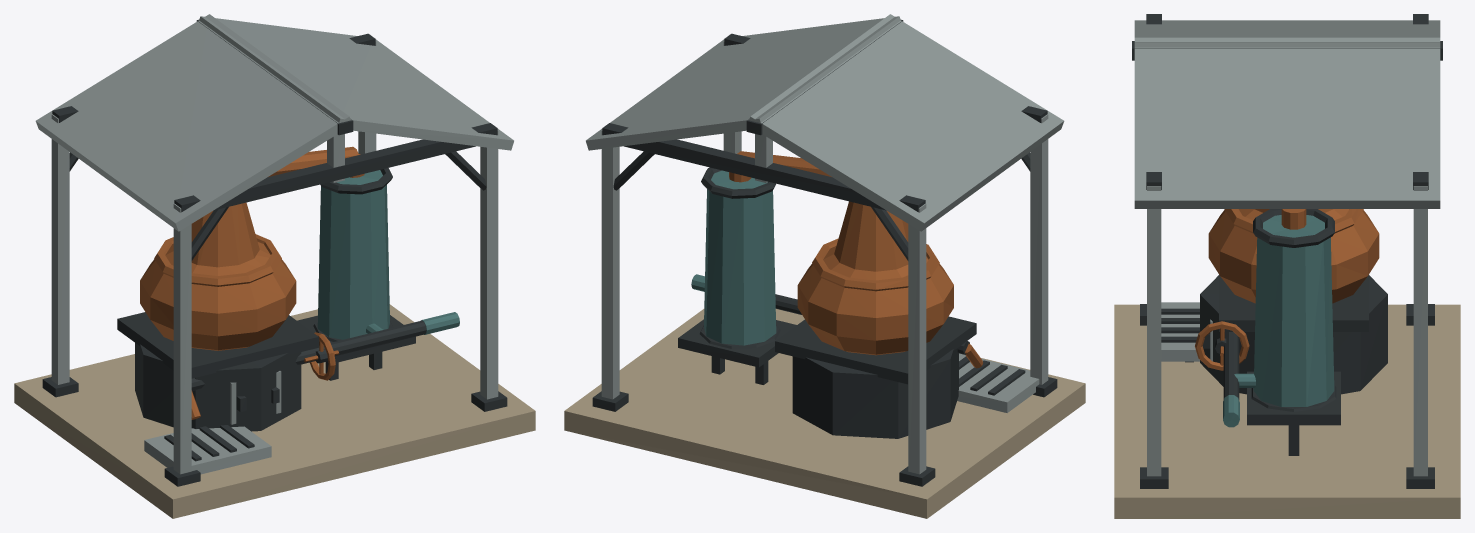
File: Distillery.glb
The picture shows the model from 3 angles, left to right: view 1: azimuth 30°, elevation 25°; view 2: azimuth 150°, elevation 25°; view 3: azimuth 270°, elevation 25°; orthographic projection. The views are drawn at different scales.
Parts seen in each view (by area): view 1: distillery-static-distillery-pale-galvanized-shelter, distillery-static-distillery-warm-cream-stone-base, distillery-static-distillery-dark-iron-furnace-manifold, distillery-static-distillery-restrained-copper-still, distillery-static-distillery-muted-teal-condenser-cooling; view 2: distillery-static-distillery-pale-galvanized-shelter, distillery-static-distillery-warm-cream-stone-base, distillery-static-distillery-dark-iron-furnace-manifold, distillery-static-distillery-restrained-copper-still, distillery-static-distillery-muted-teal-condenser-cooling; view 3: distillery-static-distillery-pale-galvanized-shelter, distillery-static-distillery-warm-cream-stone-base, distillery-static-distillery-dark-iron-furnace-manifold, distillery-static-distillery-muted-teal-condenser-cooling, distillery-static-distillery-restrained-copper-still.
Boxes of the visible parts, x1=… form: distillery-static-distillery-pale-galvanized-shelter: x1=35, y1=14, x2=513, y2=474; distillery-static-distillery-warm-cream-stone-base: x1=14, y1=304, x2=535, y2=518; distillery-static-distillery-dark-iron-furnace-manifold: x1=42, y1=19, x2=507, y2=486; distillery-static-distillery-restrained-copper-still: x1=140, y1=146, x2=364, y2=419; distillery-static-distillery-muted-teal-condenser-cooling: x1=317, y1=170, x2=459, y2=339; distillery-static-distillery-pale-galvanized-shelter: x1=586, y1=14, x2=1064, y2=474; distillery-static-distillery-warm-cream-stone-base: x1=564, y1=309, x2=1085, y2=518; distillery-static-distillery-dark-iron-furnace-manifold: x1=592, y1=19, x2=1057, y2=486; distillery-static-distillery-restrained-copper-still: x1=729, y1=151, x2=982, y2=368; distillery-static-distillery-muted-teal-condenser-cooling: x1=691, y1=170, x2=776, y2=345; distillery-static-distillery-pale-galvanized-shelter: x1=1134, y1=20, x2=1440, y2=476; distillery-static-distillery-warm-cream-stone-base: x1=1114, y1=304, x2=1460, y2=518; distillery-static-distillery-dark-iron-furnace-manifold: x1=1132, y1=14, x2=1442, y2=488; distillery-static-distillery-muted-teal-condenser-cooling: x1=1223, y1=215, x2=1334, y2=427; distillery-static-distillery-restrained-copper-still: x1=1195, y1=209, x2=1379, y2=370.
Size of the model in its own units: 3.5 by 3.23 by 2.65.
